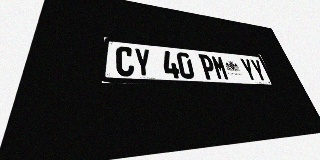0: (176, 52, 195, 79)
4: (161, 50, 180, 78)
C: (116, 46, 134, 77)
M: (211, 55, 230, 80)
P: (198, 54, 217, 80)
Y: (134, 48, 152, 77), (239, 58, 258, 81), (249, 59, 268, 82)
